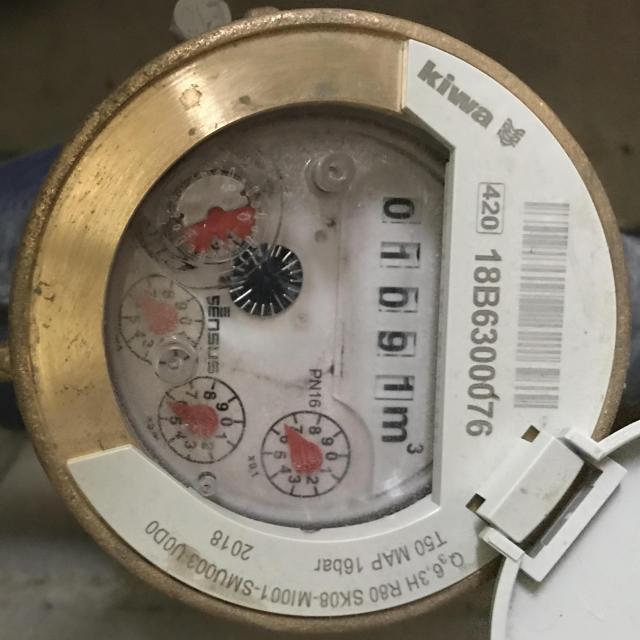gaz_meter: (23, 10, 620, 613)
indication: (351, 182, 433, 406)
